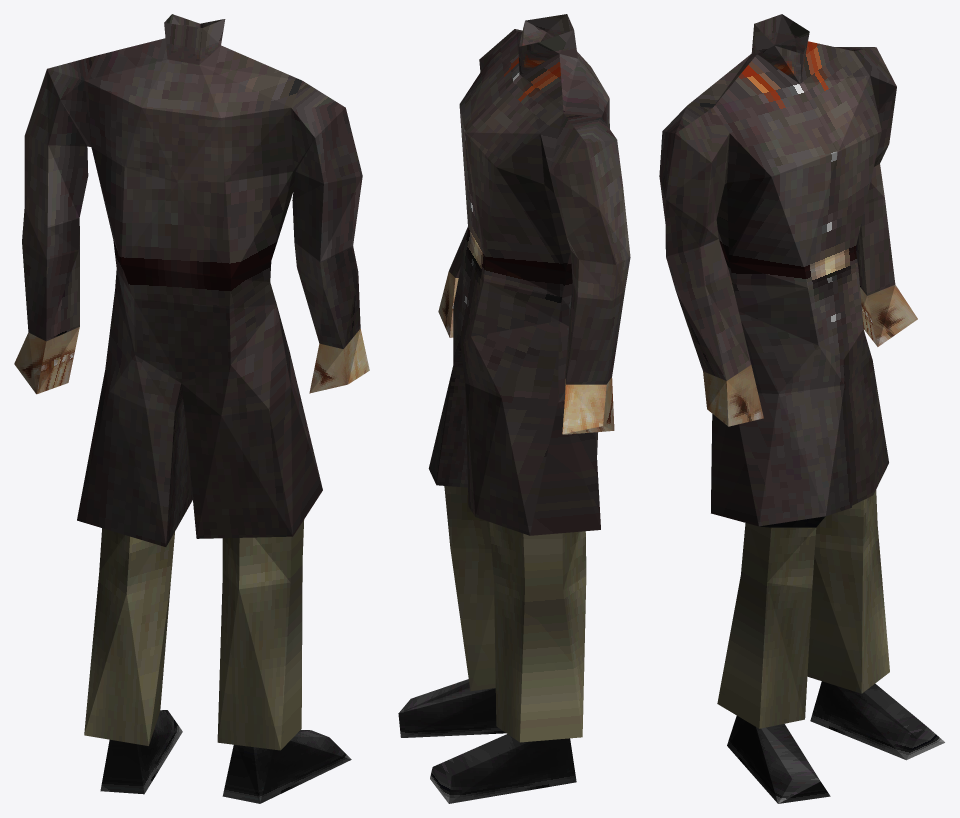
Rendered from primary_074.glb.
3 renders of one model, left to right at view 1: azimuth 30°, elevation 25°; view 2: azimuth 150°, elevation 25°; view 3: azimuth 270°, elevation 25°, orthographic. The views are drawn at different scales.
Visible parts, largest first — view 1: Object; view 2: Object; view 3: Object.
Boxes of the visible parts, x1=… form: Object: x1=14, y1=14, x2=369, y2=803; Object: x1=398, y1=14, x2=630, y2=803; Object: x1=659, y1=14, x2=944, y2=803.
Bounding box in the file's own units: 0.6657 × 1.8 × 0.6539.
77 materials, 77 textured.
